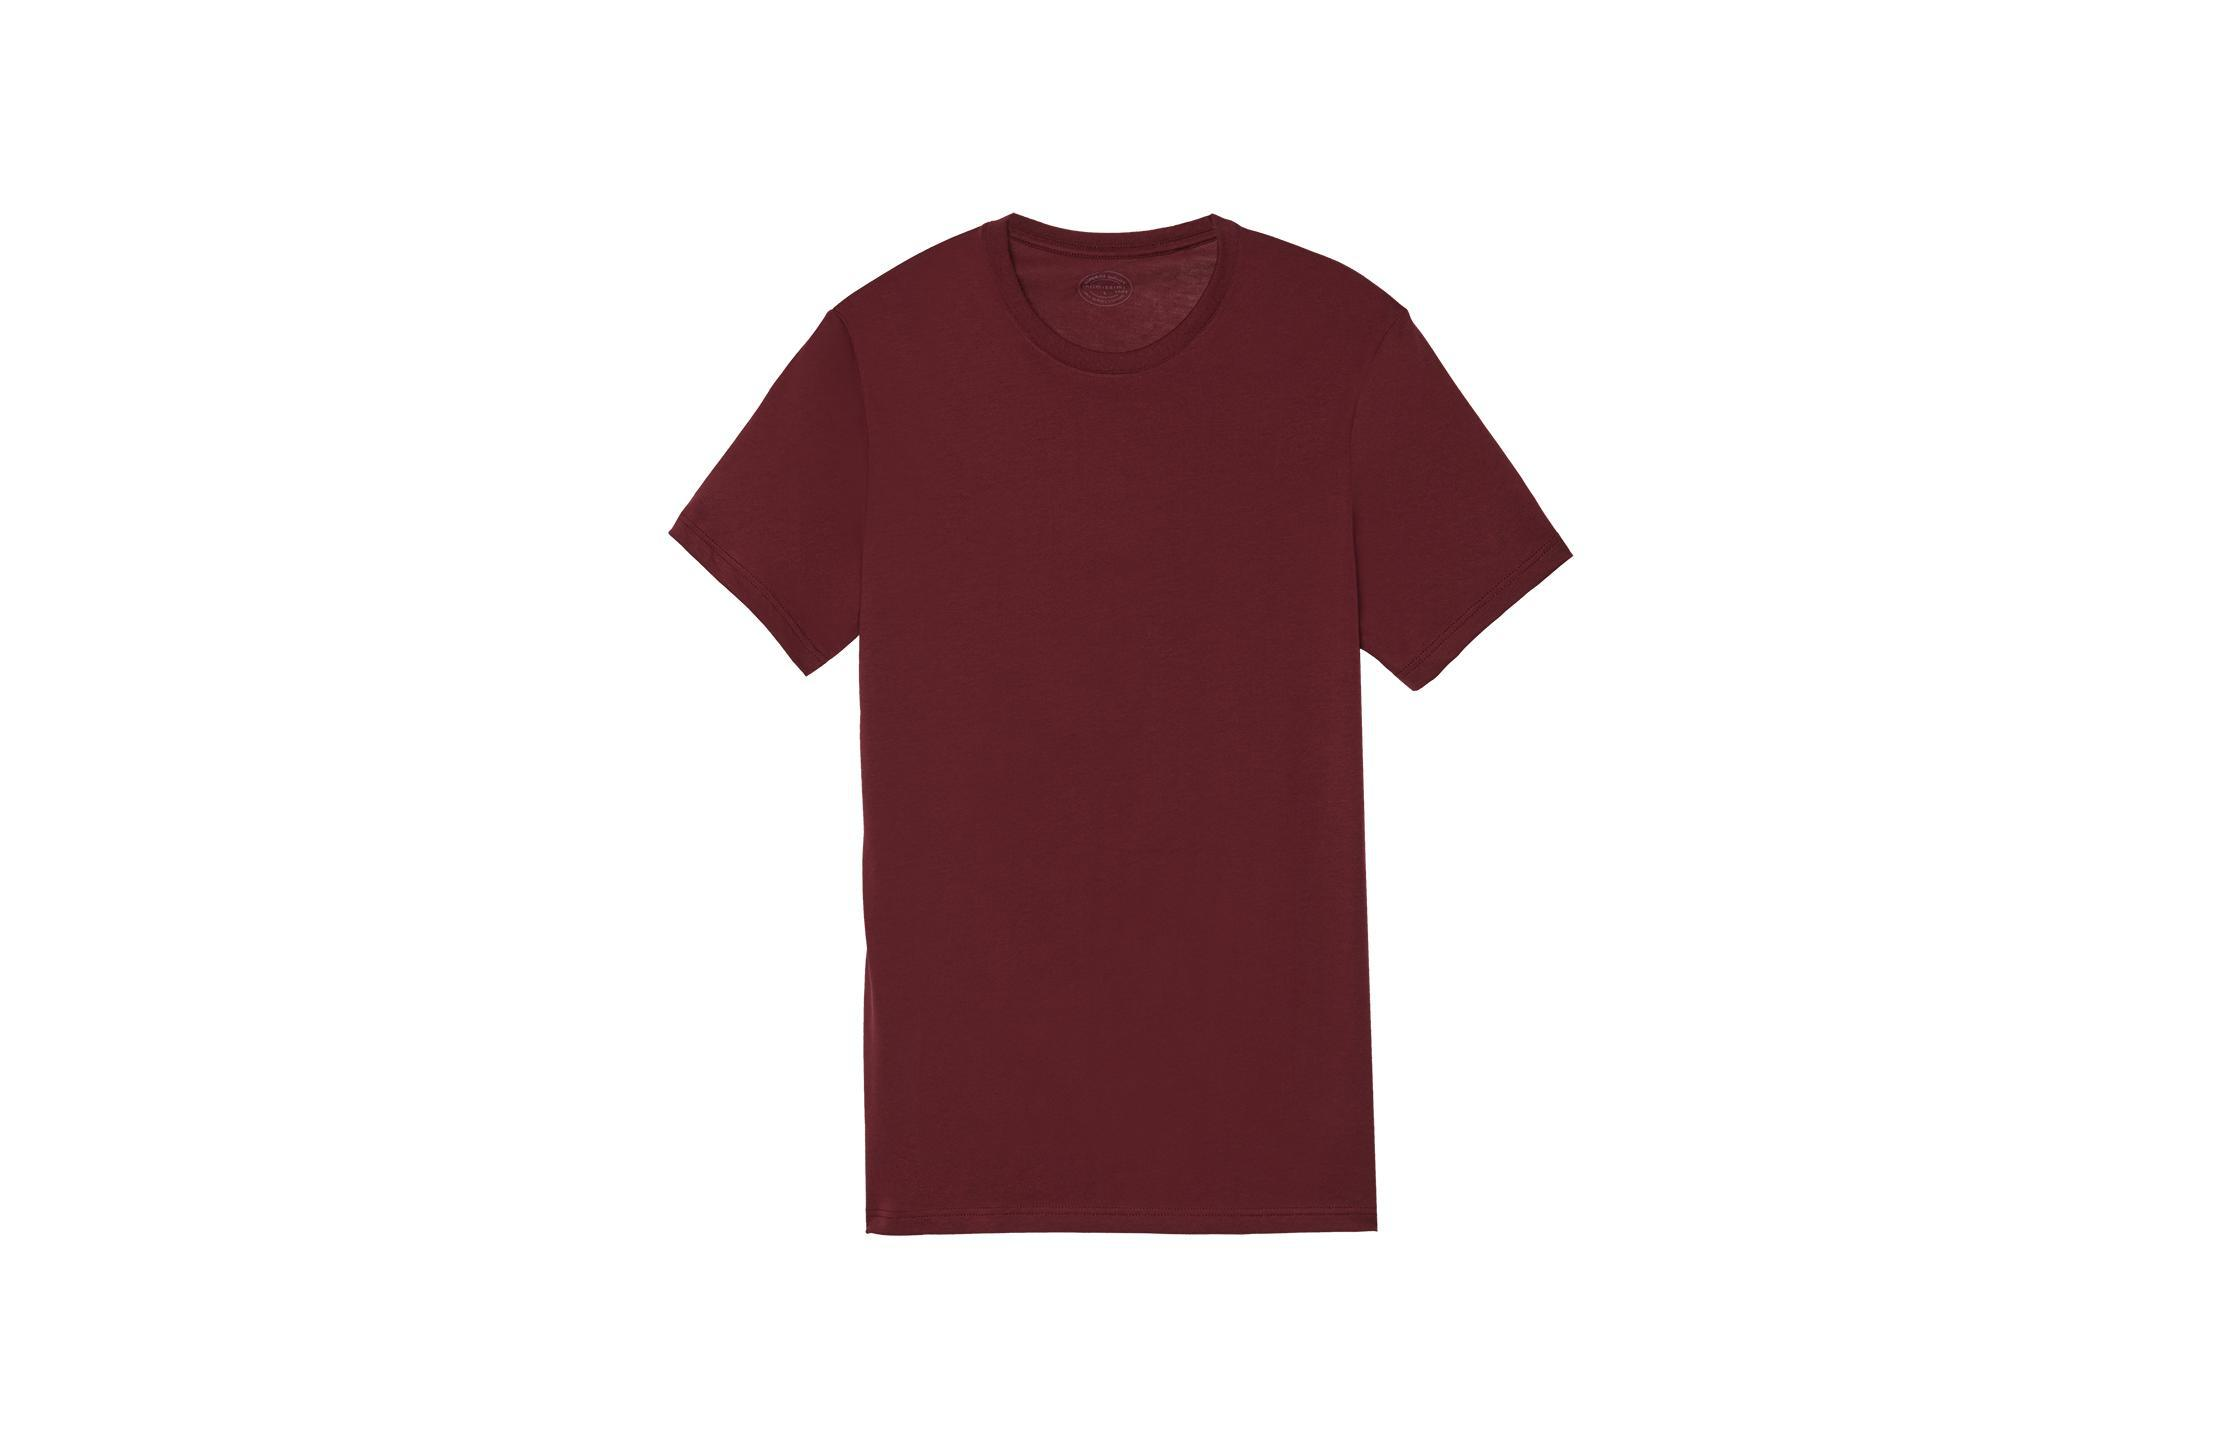teeshirt: (8, 8, 2232, 1440)
